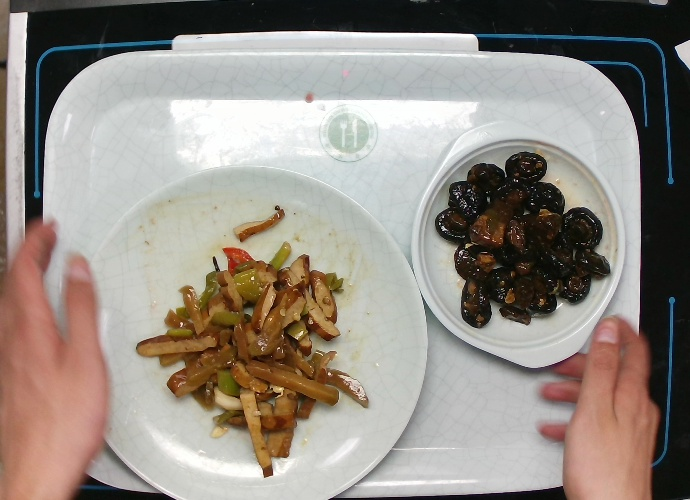JYsf-Da_Yuan_Pan: (81, 161, 429, 500)
JYsf-Shuang_Er_Pan: (408, 119, 627, 369)
